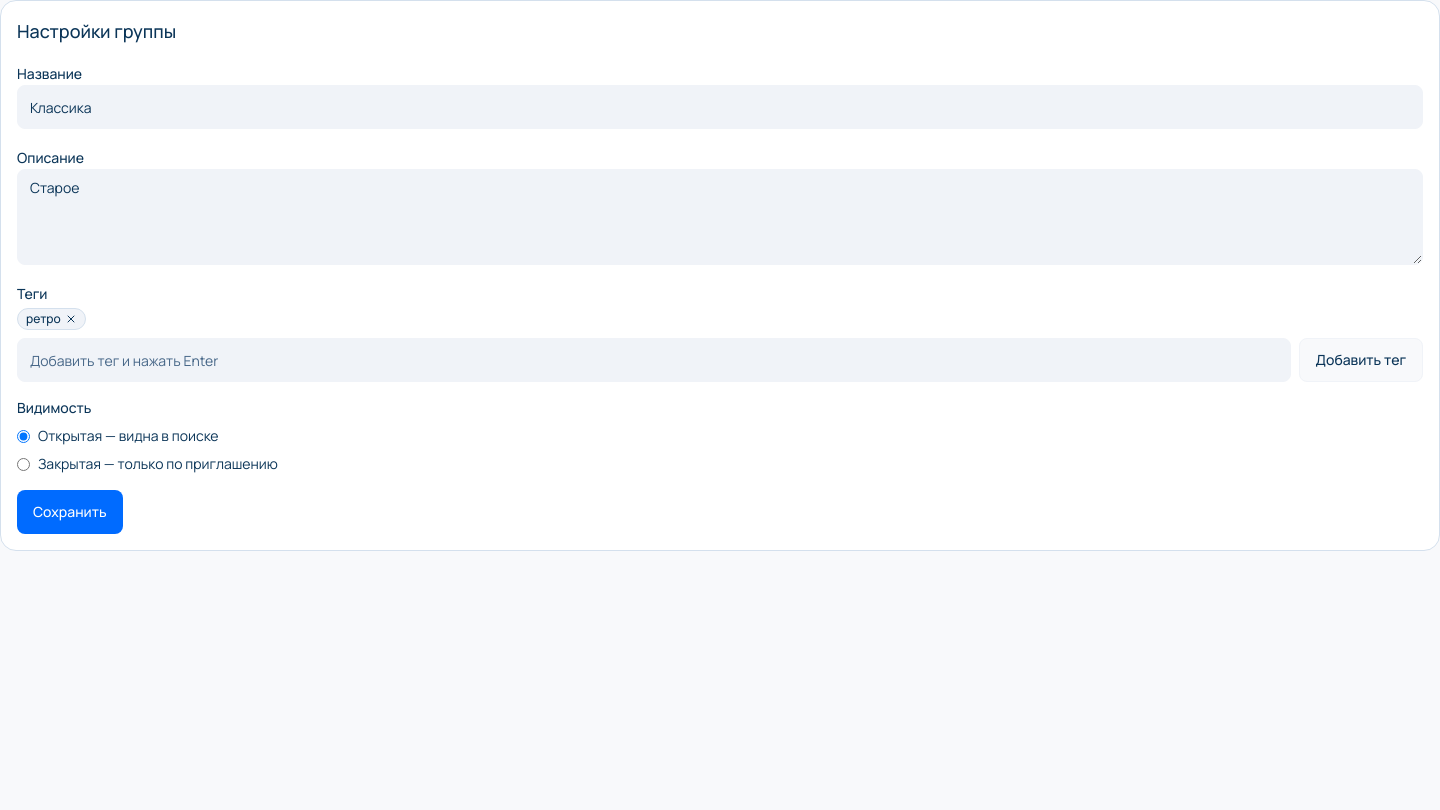
it: GroupSettingsForm › saves edited settings and shows saved state
Replace the text in the field labelled "Название" with "Новая классика" at (720,107), box [17,85,1423,129]
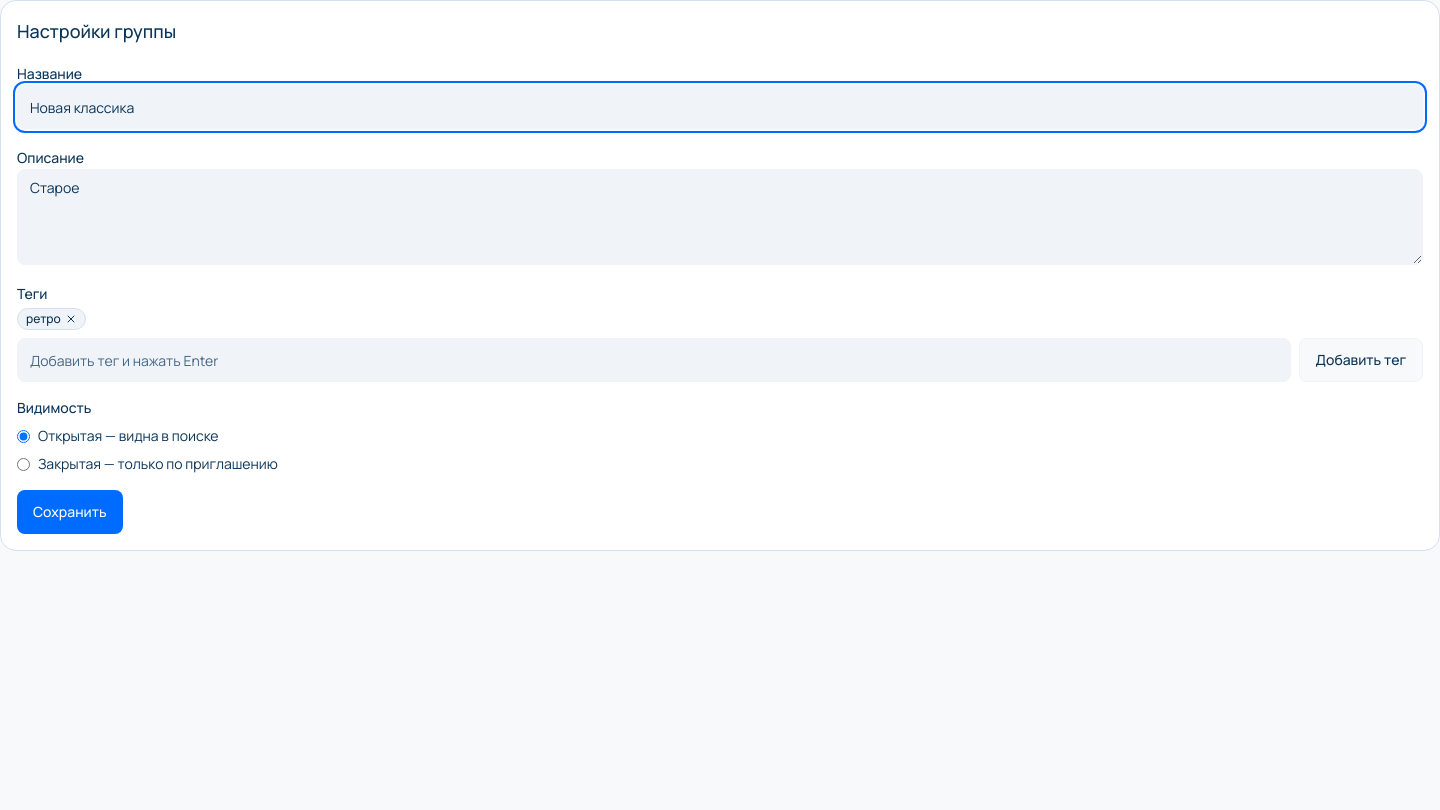
Click the button "Сохранить" at (70,512), box [17,490,123,534]
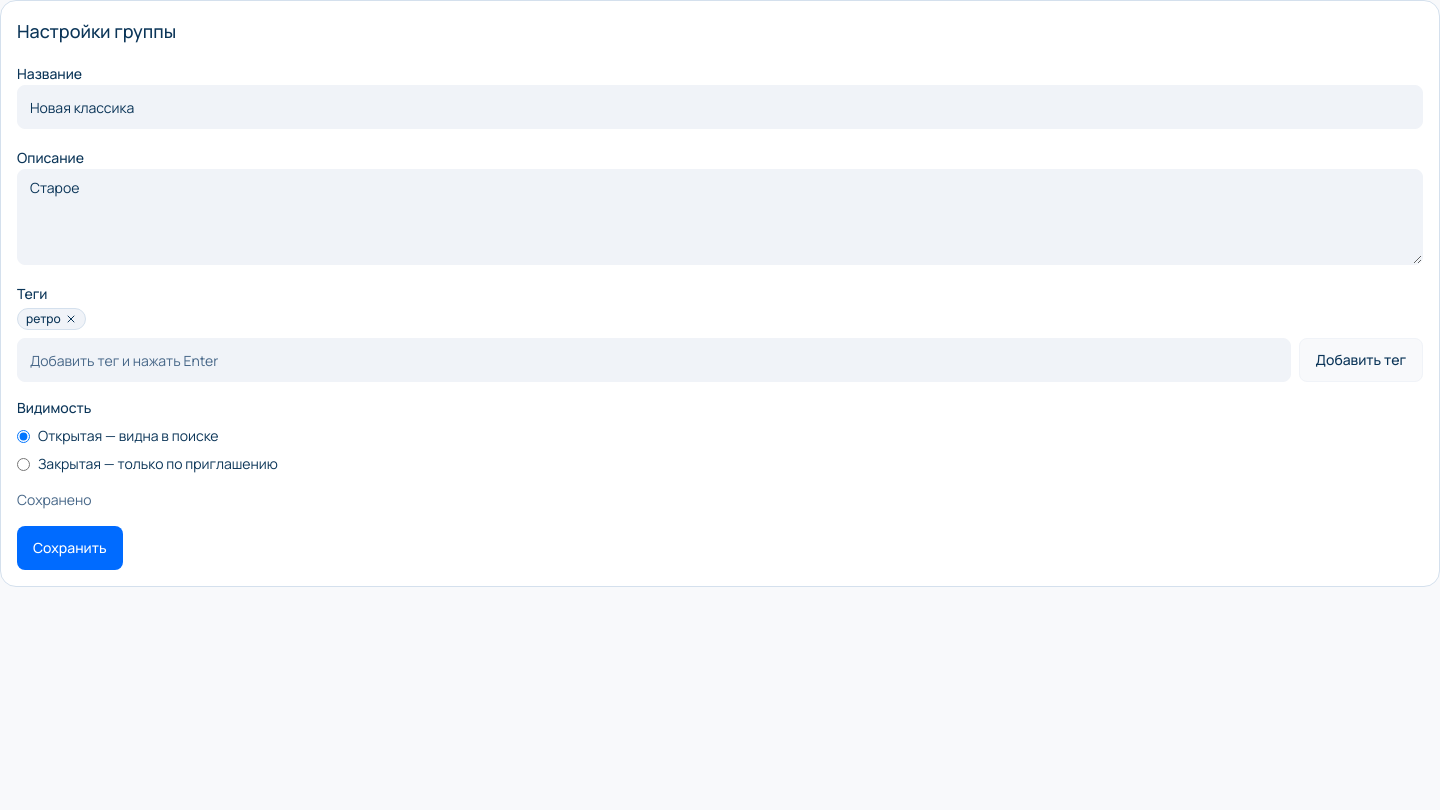
Now the text "Сохранено" is shown, box [17,490,92,509]
